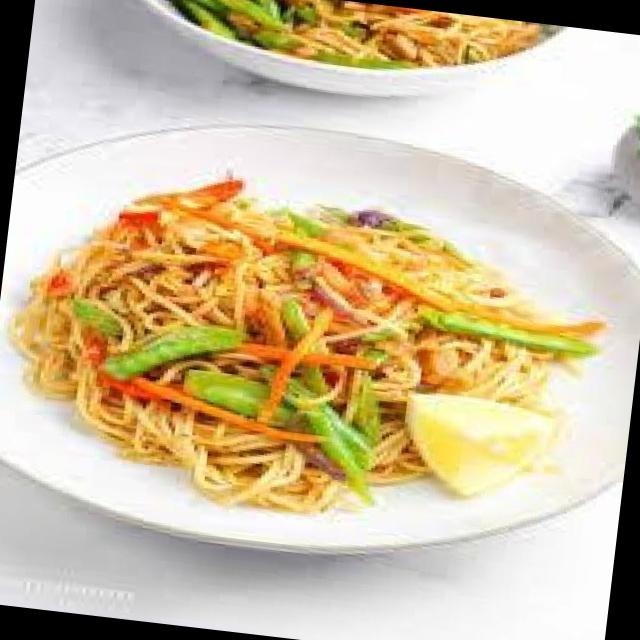pancit bihon: (18, 190, 568, 492)
